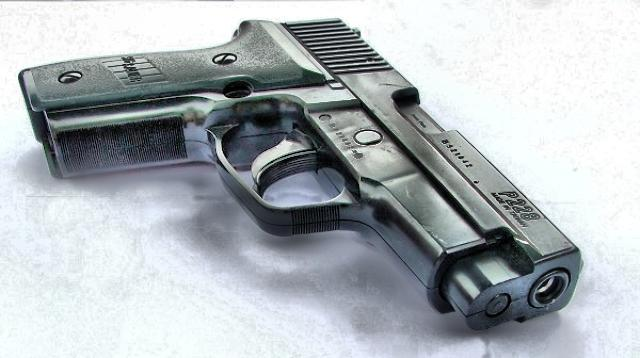pistol: (14, 17, 586, 326)
